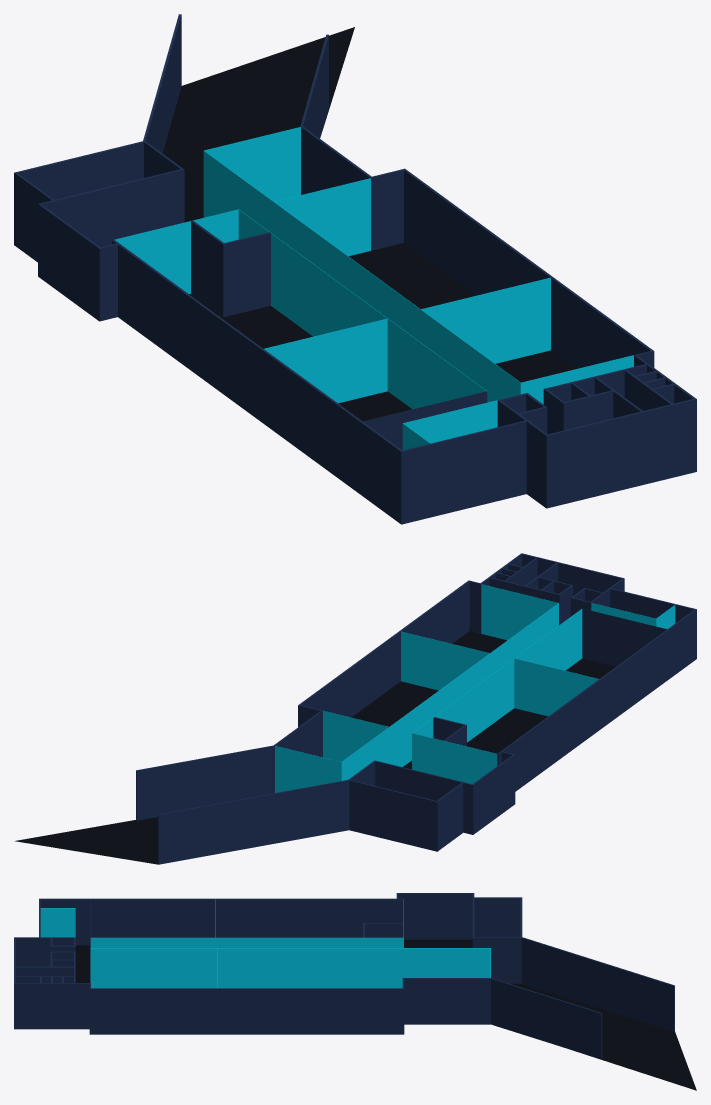
3 renders of one model, top to bottom at view 1: azimuth 30°, elevation 25°; view 2: azimuth 150°, elevation 25°; view 3: azimuth 270°, elevation 25°, orthographic. The views are drawn at different scales.
Parts seen in each view (by area): view 1: Walls, Mesh20.002, Travel Studio, Alif Crae, class1, Bolt & Volt Room; view 2: Walls, Mesh20.002, Travel Studio, Alif Crae, class1, Bolt & Volt Room; view 3: Walls, Mesh20.002, Mesh6, Mesh20.001.
Boxes of the visible parts, box(x1,y1,x2,y2) form: Walls: box(14, 14, 696, 524); Mesh20.002: box(162, 27, 354, 220); Travel Studio: box(349, 243, 475, 308); Alif Crae: box(189, 294, 312, 348); class1: box(496, 350, 575, 382); Bolt & Volt Room: box(338, 391, 411, 421); Walls: box(136, 553, 696, 864); Mesh20.002: box(14, 817, 157, 864); Travel Studio: box(352, 681, 438, 726); Alif Crae: box(467, 708, 547, 753); class1: box(452, 631, 506, 652); Bolt & Volt Room: box(565, 658, 615, 678); Walls: box(14, 893, 674, 1059); Mesh20.002: box(516, 983, 696, 1090); Mesh6: box(404, 939, 472, 947); Mesh20.001: box(75, 945, 90, 982).
Size of the model in its own units: 6.35 by 0.8924 by 12.06.
Materials: 2 (2 with a texture image).
